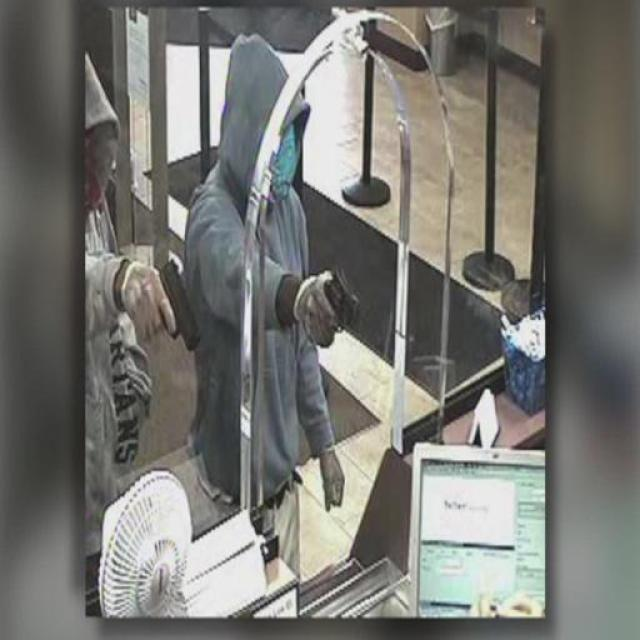pistol: (140, 254, 201, 350), (321, 266, 361, 335)
